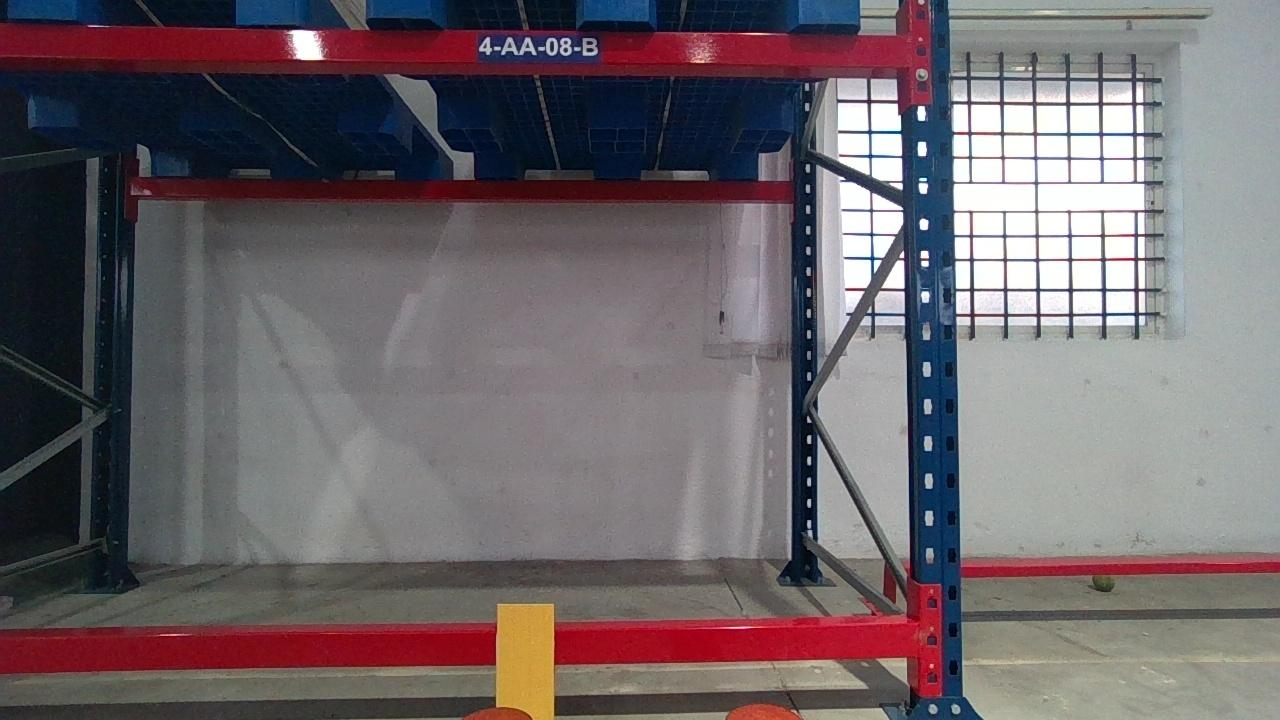h_rack: (2, 611, 913, 673), (4, 22, 921, 67)
orange_strip: (494, 603, 555, 719)
small_pallet: (367, 0, 860, 26)
